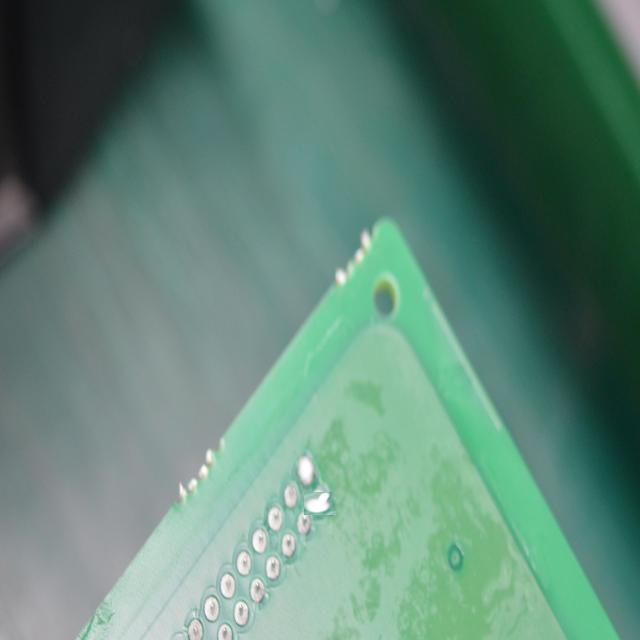slug: (306, 490, 334, 518), (294, 456, 316, 488)
